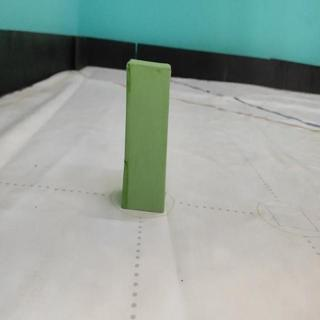greenbox: (125, 56, 173, 215)
